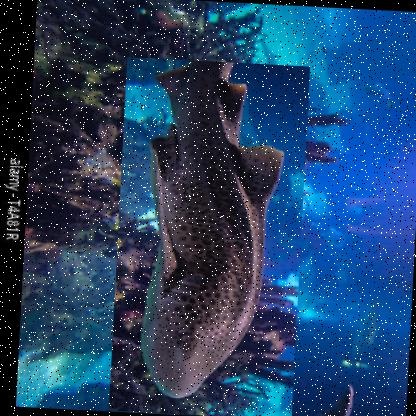zebra_shark: (107, 55, 310, 415)
